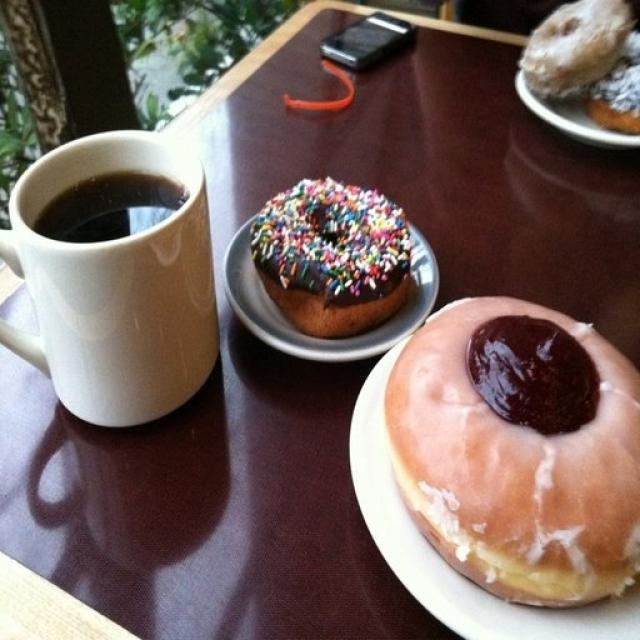Donuts: (237, 154, 640, 640), (506, 3, 640, 139)
